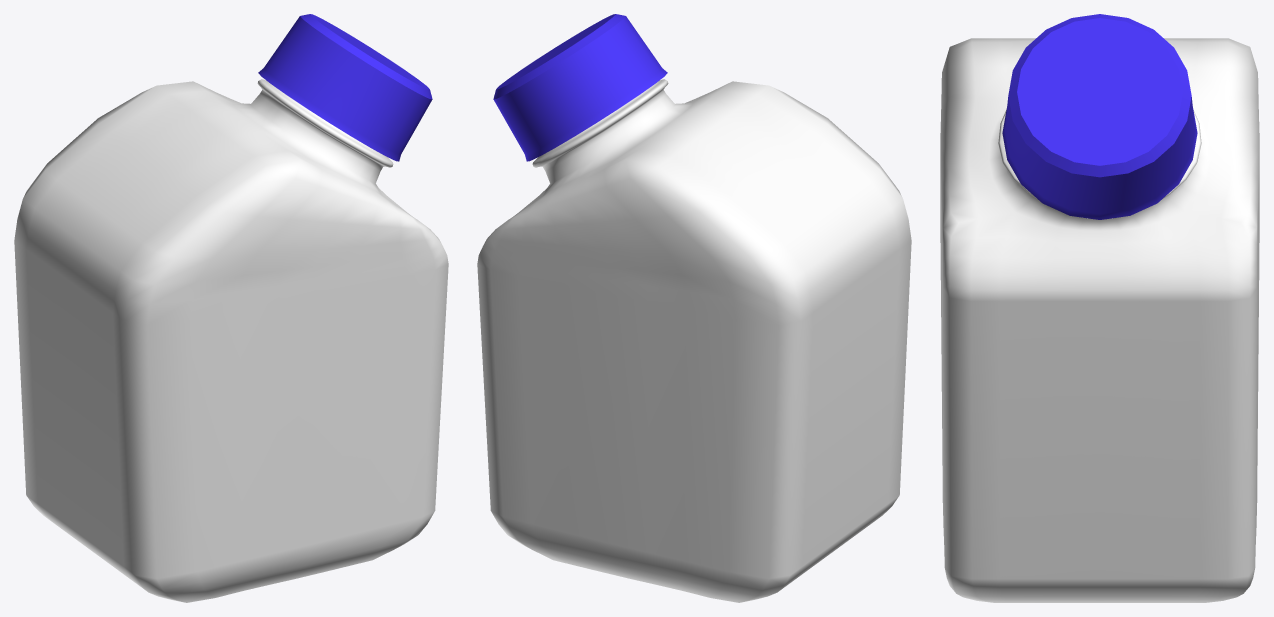
The model's file is bottleB.fbx.
3 renders of one model, left to right at view 1: azimuth 30°, elevation 25°; view 2: azimuth 150°, elevation 25°; view 3: azimuth 270°, elevation 25°, orthographic. The views are drawn at different scales.
Visible parts, largest first — view 1: liquid-bottle-hbss-base, liquid-bottle-hbss-cap; view 2: liquid-bottle-hbss-base, liquid-bottle-hbss-cap; view 3: liquid-bottle-hbss-base, liquid-bottle-hbss-cap.
Boxes of the visible parts, box(x1,y1,x2,y2) form: liquid-bottle-hbss-base: box(14, 79, 448, 602); liquid-bottle-hbss-cap: box(258, 14, 432, 161); liquid-bottle-hbss-base: box(477, 79, 911, 602); liquid-bottle-hbss-cap: box(493, 14, 667, 161); liquid-bottle-hbss-base: box(940, 38, 1259, 602); liquid-bottle-hbss-cap: box(1002, 14, 1197, 219).
Bounding box in the file's own units: 1164 × 1575 × 787.
